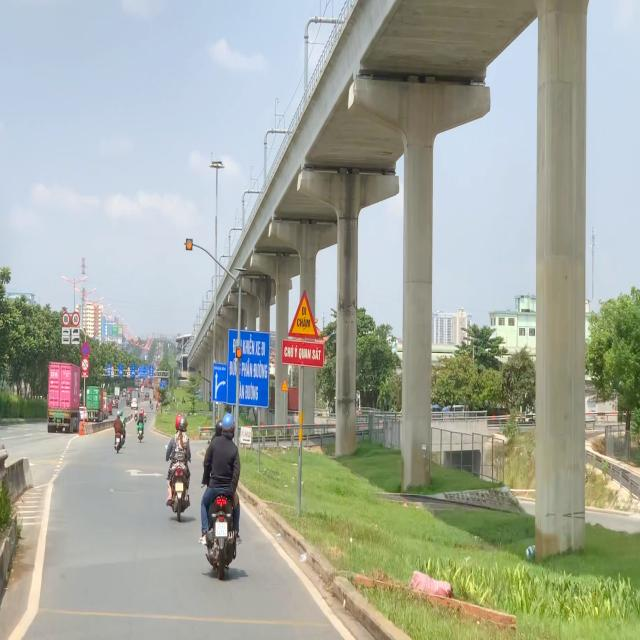Cam dung va do: (81, 342, 90, 357)
Nguy hiem: (287, 289, 319, 340)
Toc do toi da: (62, 312, 70, 327), (72, 312, 80, 326)
